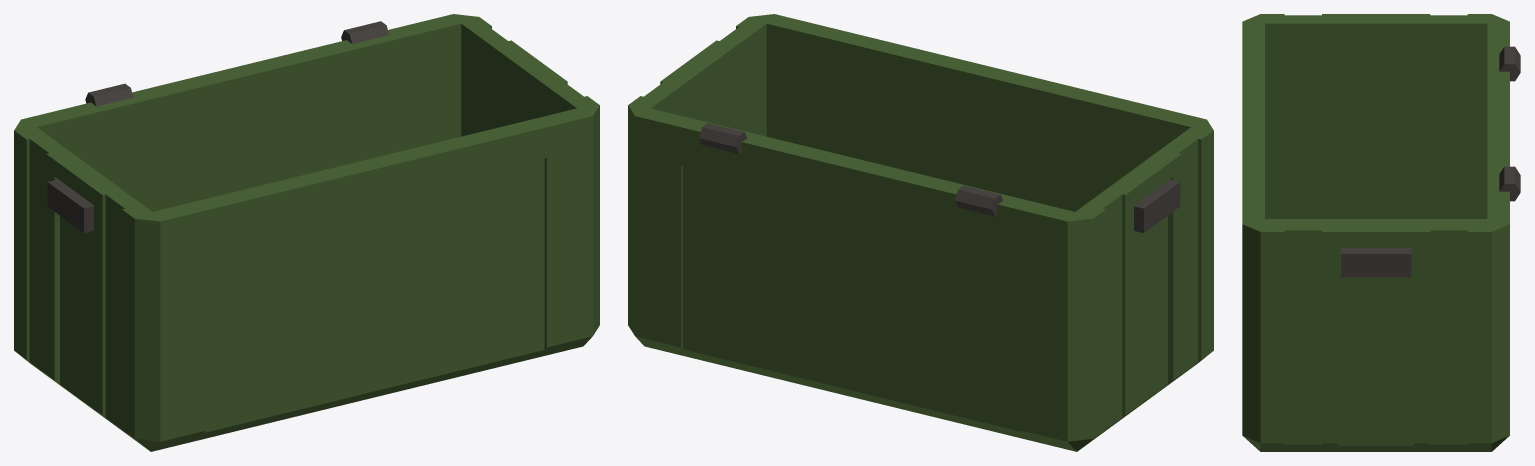
The model's file is BigAmoBox_03.fbx.
3 views of the same model, side by side, from view 1: azimuth 30°, elevation 25°; view 2: azimuth 150°, elevation 25°; view 3: azimuth 270°, elevation 25° (orthographic). The views are drawn at different scales.
Visible parts, largest first — view 1: BigAmoBox_03; view 2: BigAmoBox_03; view 3: BigAmoBox_03.
Boxes of the visible parts, x1=… form: BigAmoBox_03: x1=14, y1=14, x2=599, y2=451; BigAmoBox_03: x1=628, y1=14, x2=1213, y2=451; BigAmoBox_03: x1=1242, y1=14, x2=1520, y2=451.
Size of the model in its own units: 0.978 by 0.4751 by 0.5092.
